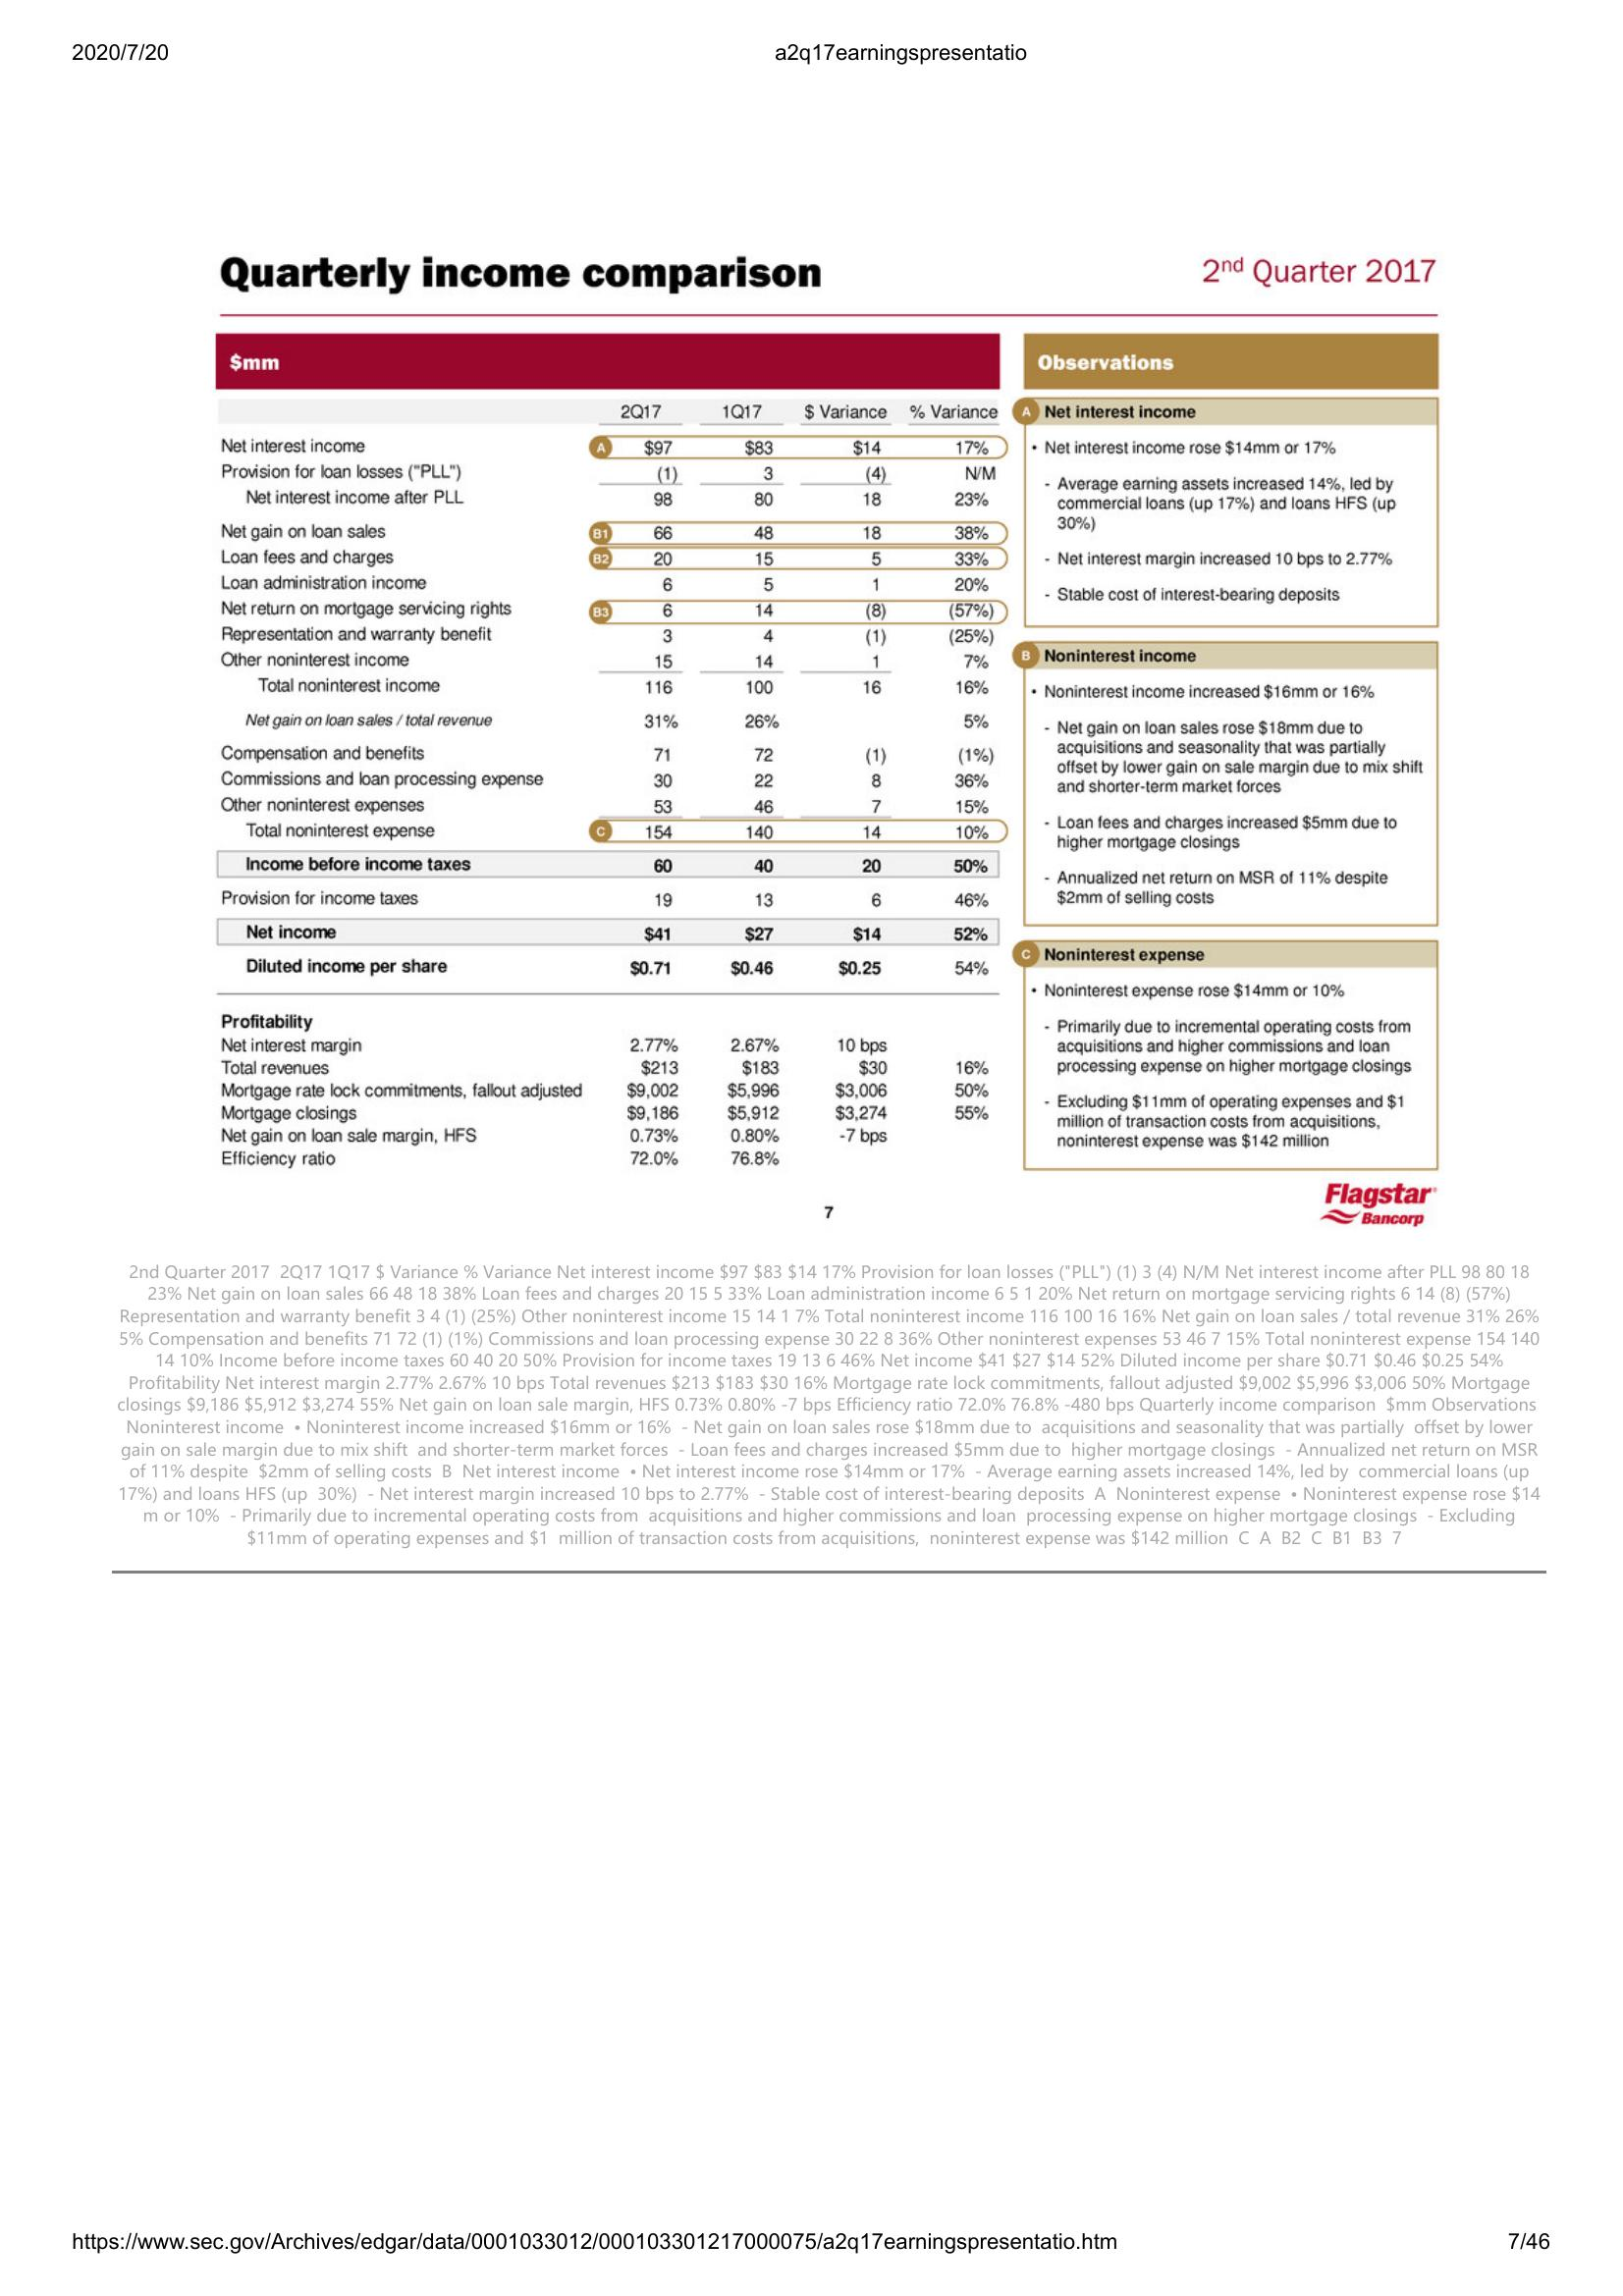table: (211, 330, 1012, 1173)
